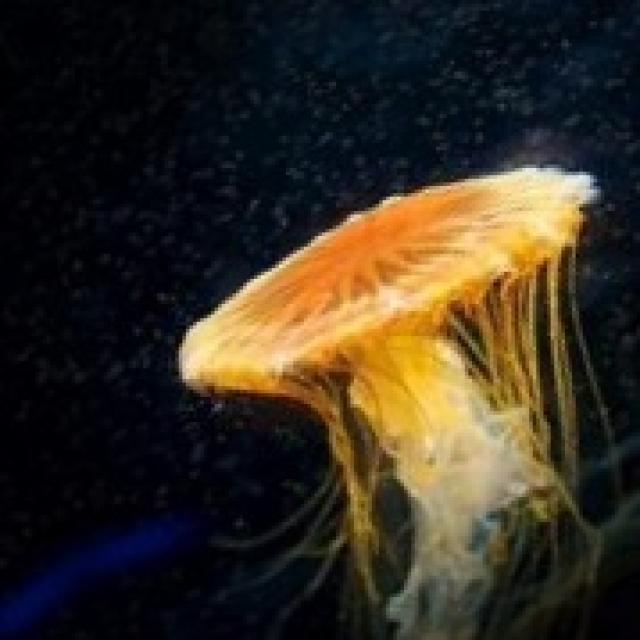Jellyfish: (172, 158, 615, 636)
